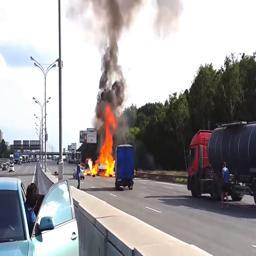fire: (83, 105, 118, 177)
